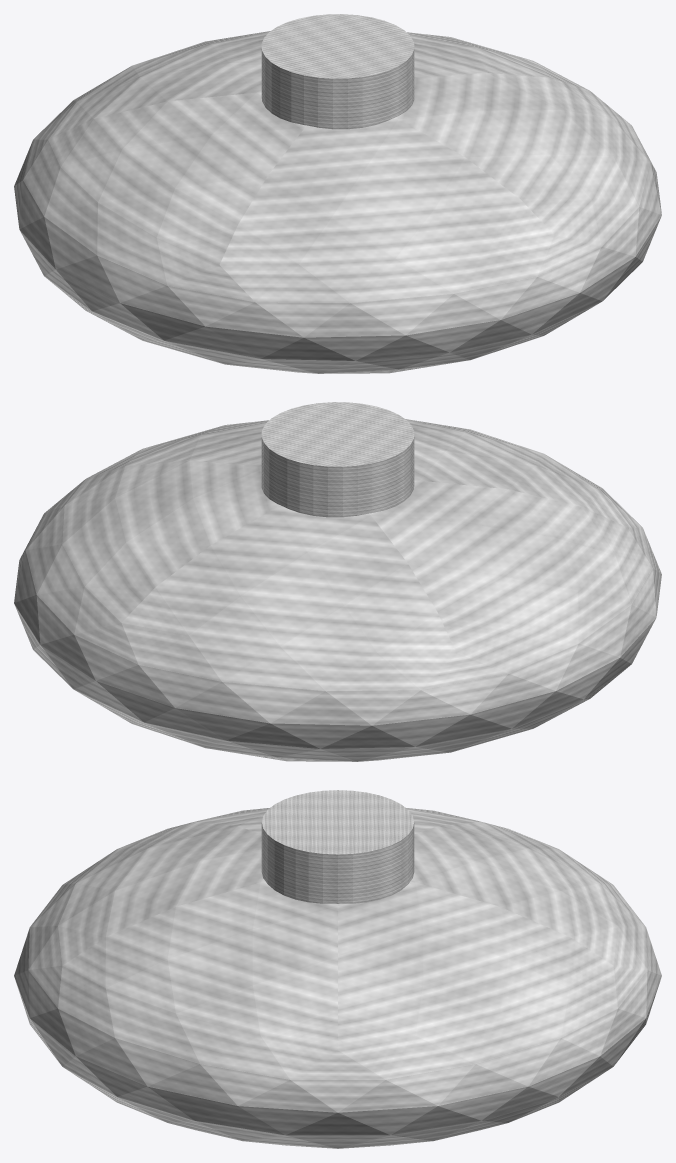
File: resource_well_main_variant_c.glb
3 renders of one model, top to bottom at view 1: azimuth 30°, elevation 25°; view 2: azimuth 150°, elevation 25°; view 3: azimuth 270°, elevation 25°, orthographic.
Visible parts, largest first — view 1: Main geological mound.002, Pressurized well throat.002; view 2: Main geological mound.002, Pressurized well throat.002; view 3: Main geological mound.002, Pressurized well throat.002.
Boxes of the visible parts, <box> form: Main geological mound.002: <box>14,31,661,373</box>; Pressurized well throat.002: <box>261,14,414,129</box>; Main geological mound.002: <box>14,419,661,761</box>; Pressurized well throat.002: <box>261,402,414,517</box>; Main geological mound.002: <box>14,808,661,1148</box>; Pressurized well throat.002: <box>261,790,414,903</box>.
Size of what is drawn, in the model's own units: 7.65 by 3.4 by 7.65.
Materials: 5 (5 with a texture image).
